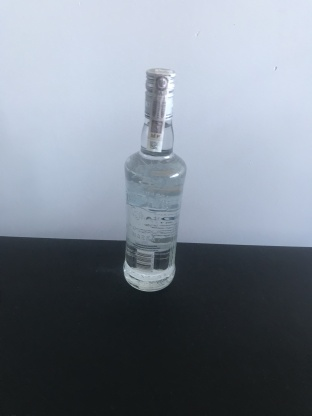nakretka: (142, 62, 178, 123)
